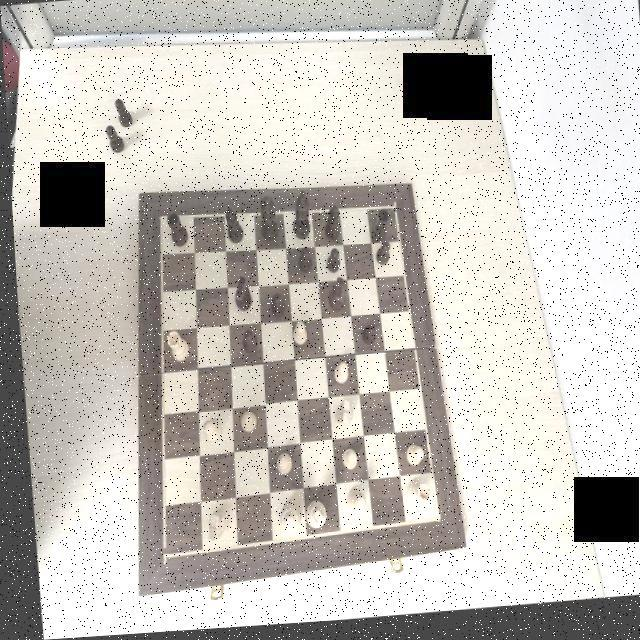chess-table-corners: (152, 550, 163, 567), (426, 518, 436, 530), (154, 214, 162, 227), (388, 208, 394, 218)
